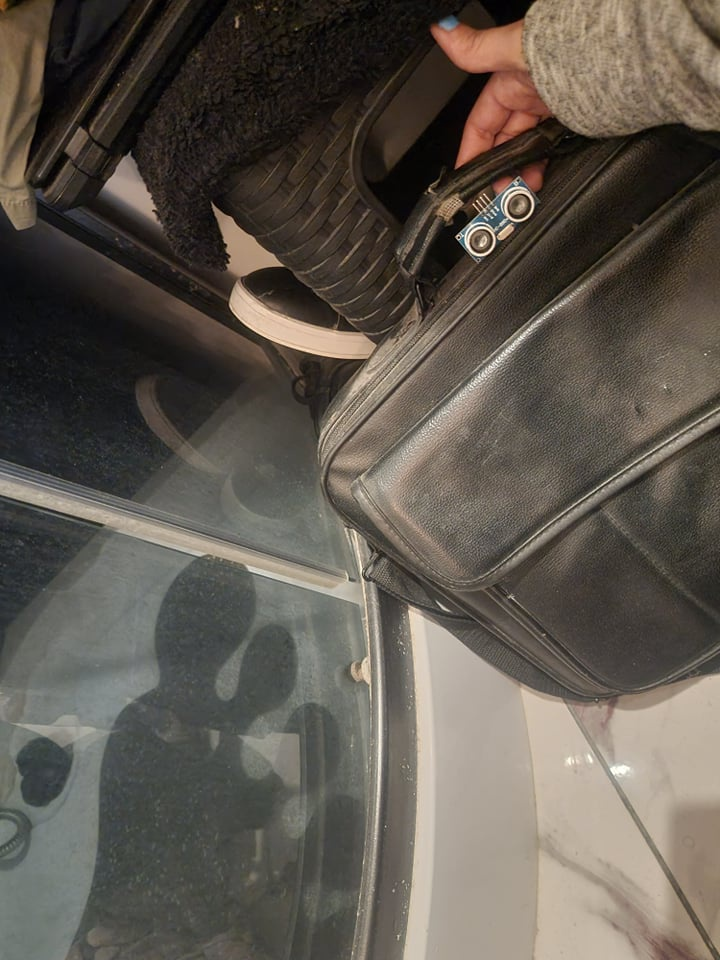SENSOR: (454, 172, 540, 262)
